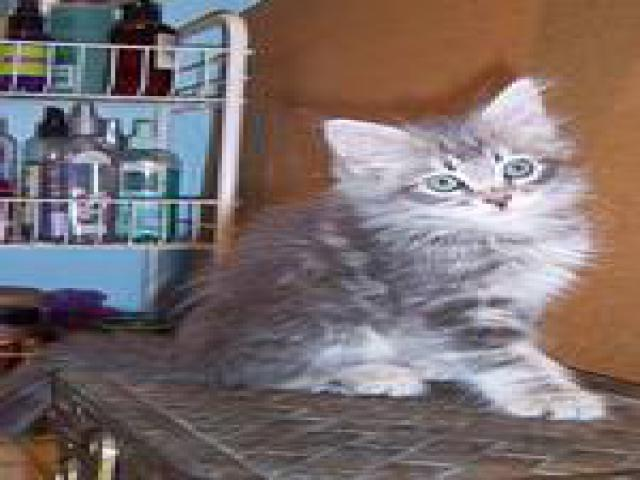cat: (169, 59, 608, 424)
